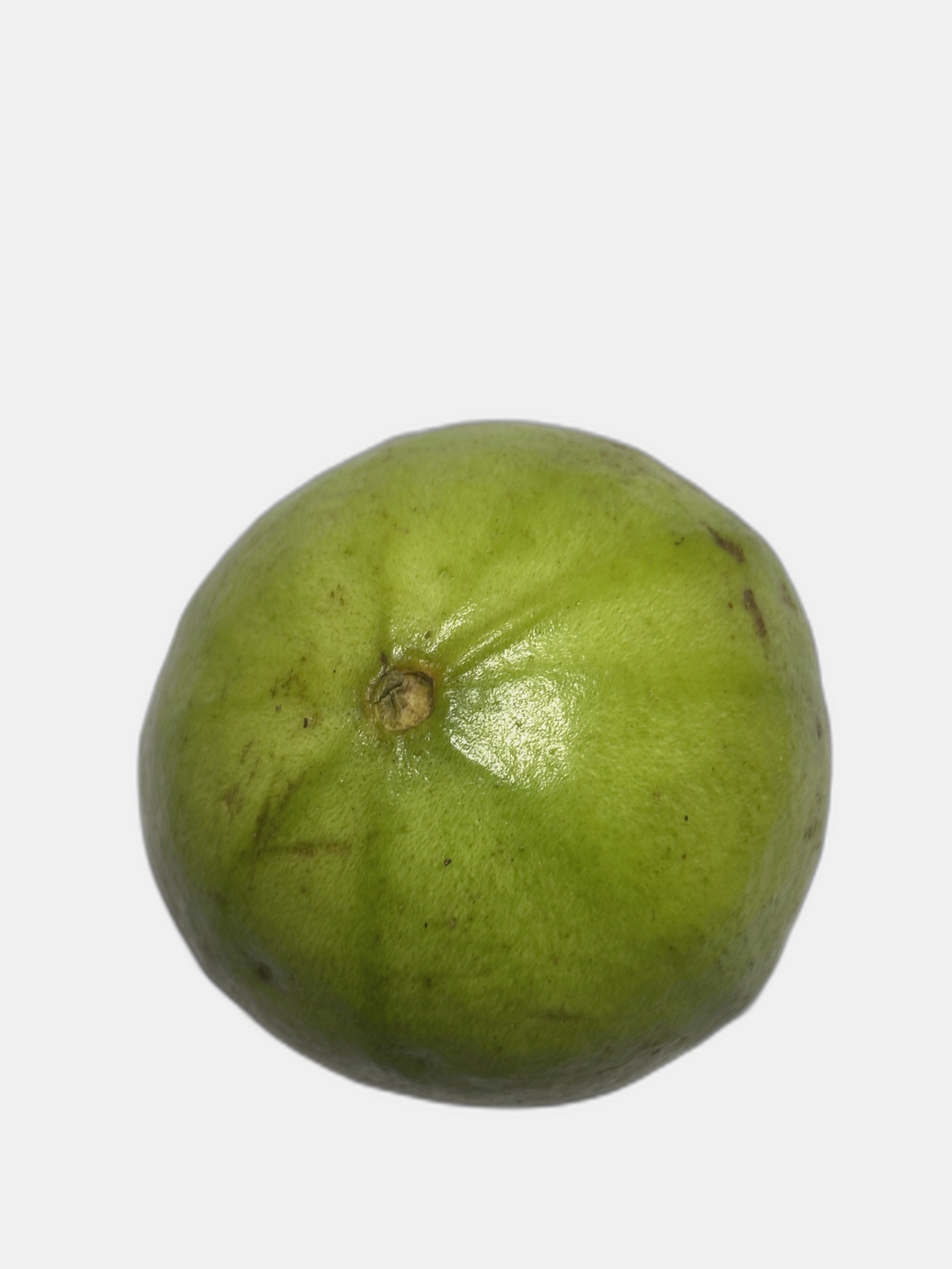guava: (189, 325, 812, 1170)
